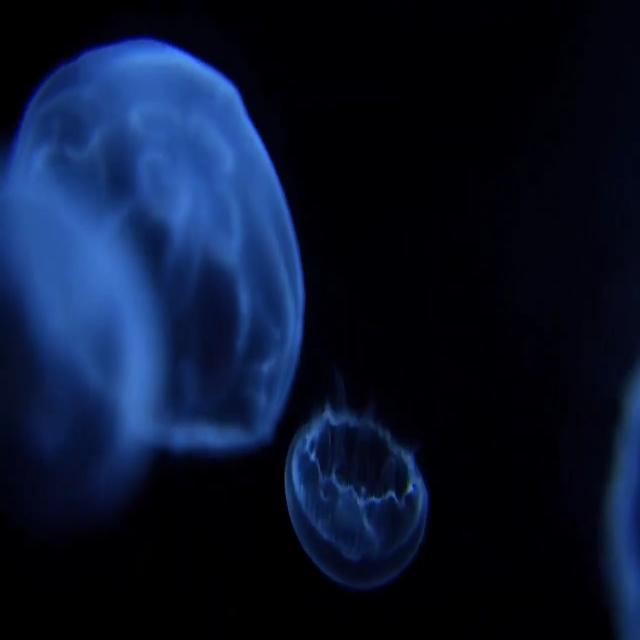Moon-jellyfish: (0, 39, 304, 514), (284, 404, 428, 588)
